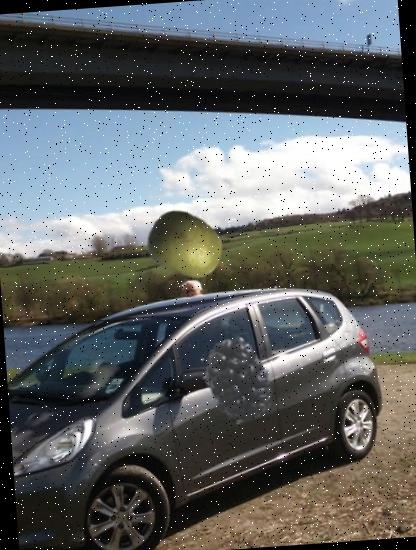Mulberry: (192, 332, 284, 425)
Pomelo: (143, 203, 226, 286)
